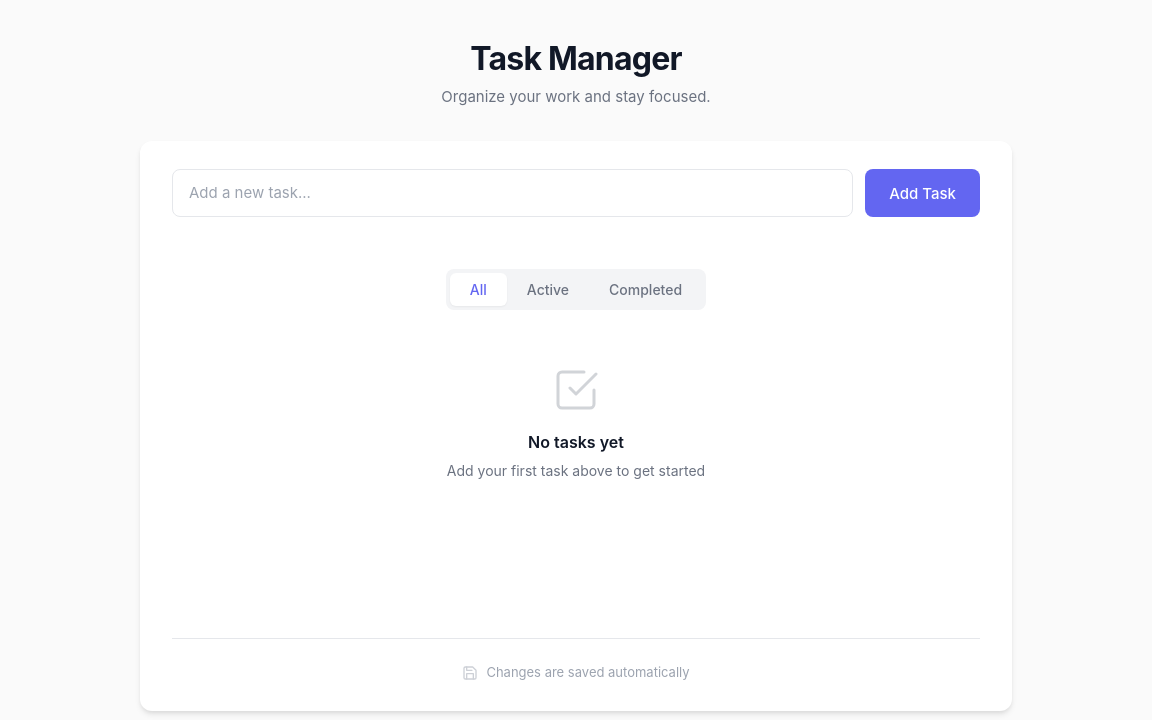
Scenario: App integration tests › filters tasks correctly and shows appropriate empty states
Check: the heading "No tasks yet" is shown, box x1=528 y1=432 x2=624 y2=452
Type "Active task" into the field at (513, 193), box x1=172 y1=169 x2=853 y2=217
Then press Enter
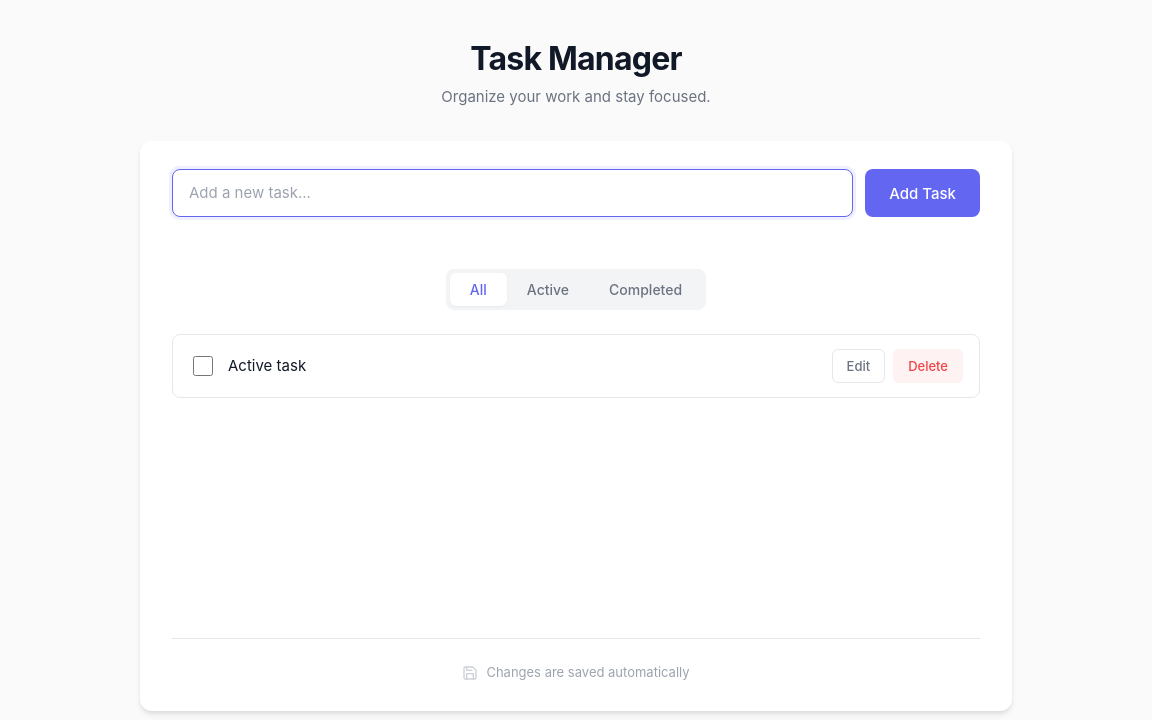
Type "Completed task" into the field at (513, 193), box x1=172 y1=169 x2=853 y2=217
Then press Enter
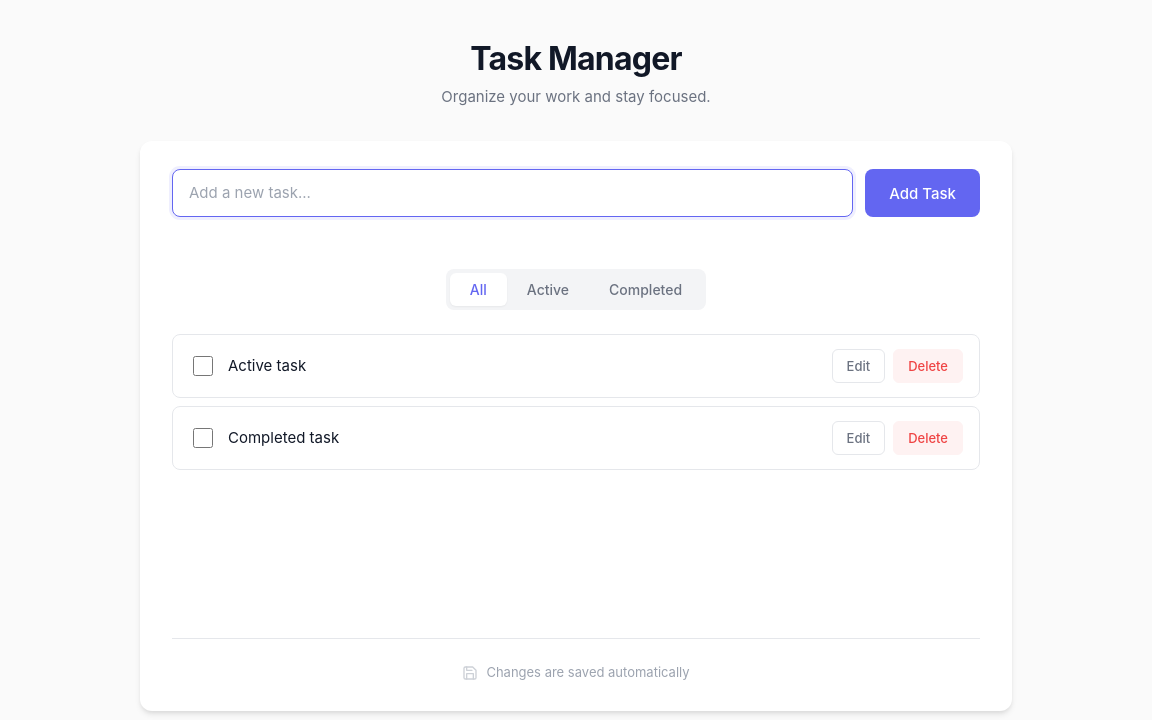
Click the checkbox named "Toggle Completed task" at (203, 438), box x1=193 y1=428 x2=213 y2=448
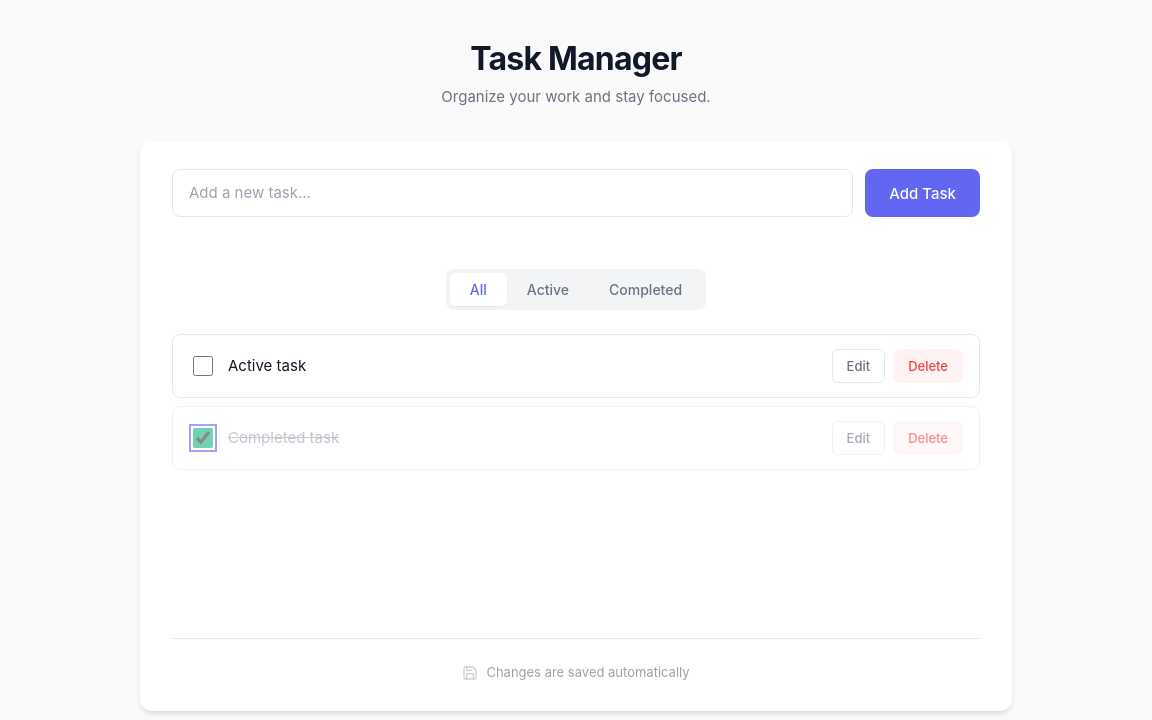
Click the button "Active" at (548, 290), box x1=507 y1=273 x2=589 y2=306
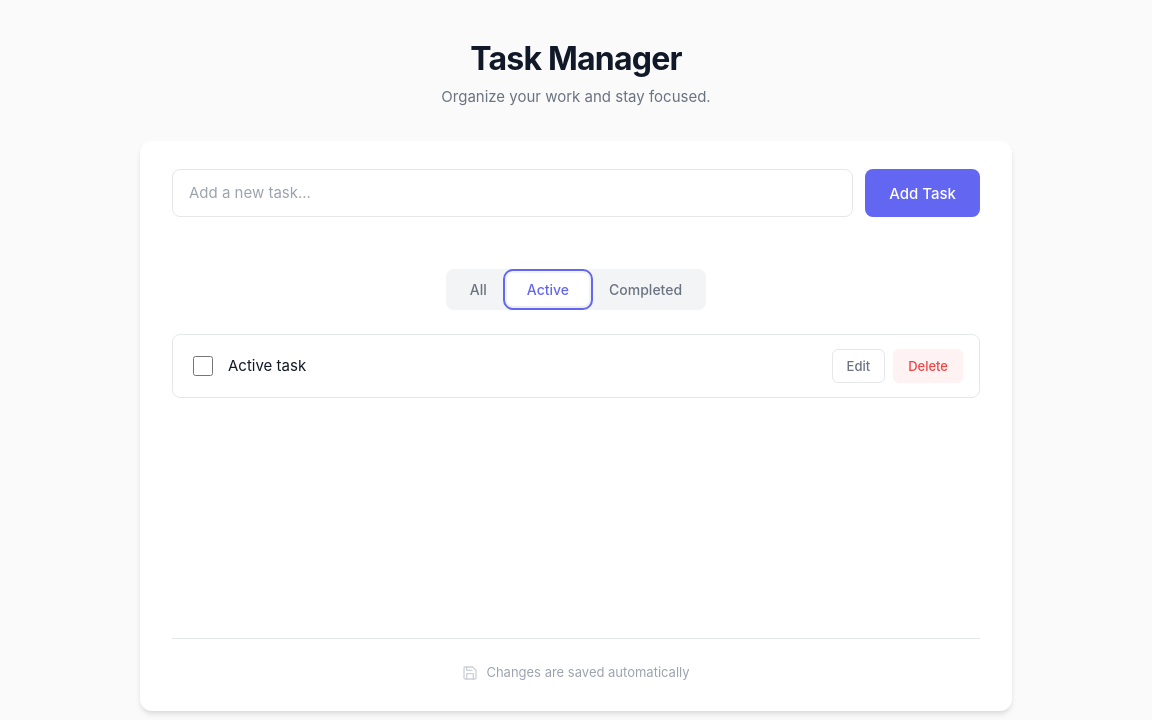
Check: the text "Active task" is shown, box x1=228 y1=356 x2=306 y2=375
Check: the text "Completed task" is gone
Click the button "Completed" at (646, 290), box x1=589 y1=273 x2=702 y2=306
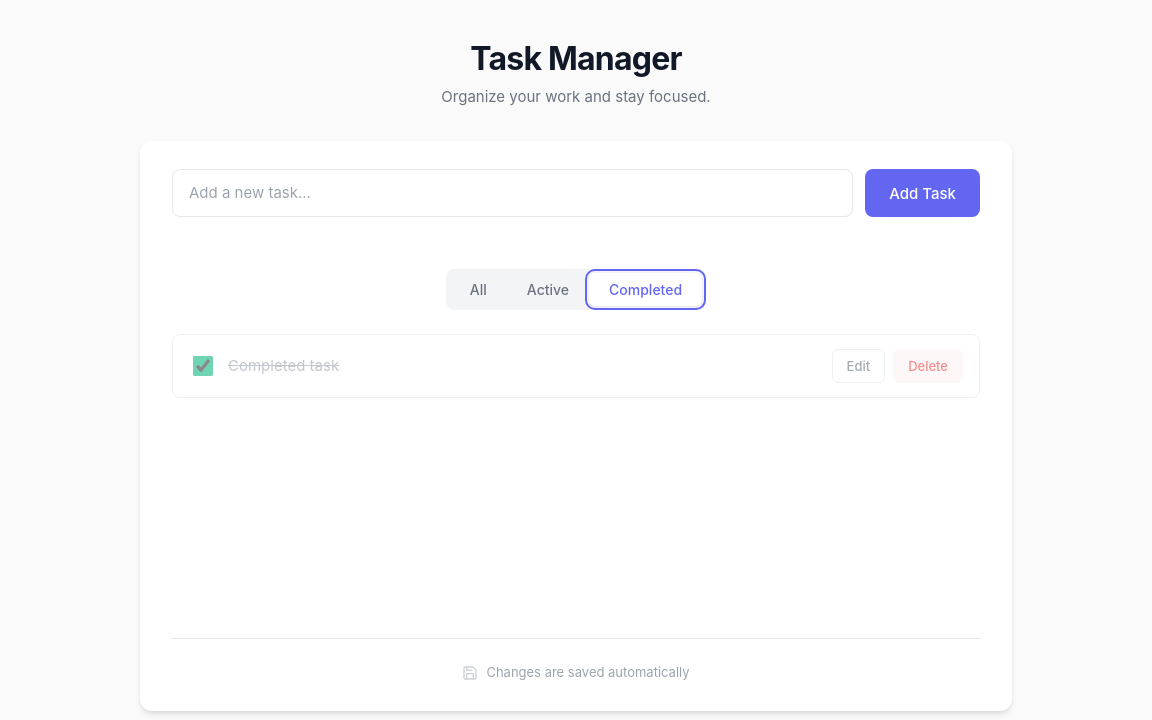
Check: the text "Active task" is gone
Check: the text "Completed task" is shown, box x1=228 y1=356 x2=339 y2=375
Click the button "All" at (478, 290), box x1=450 y1=273 x2=507 y2=306
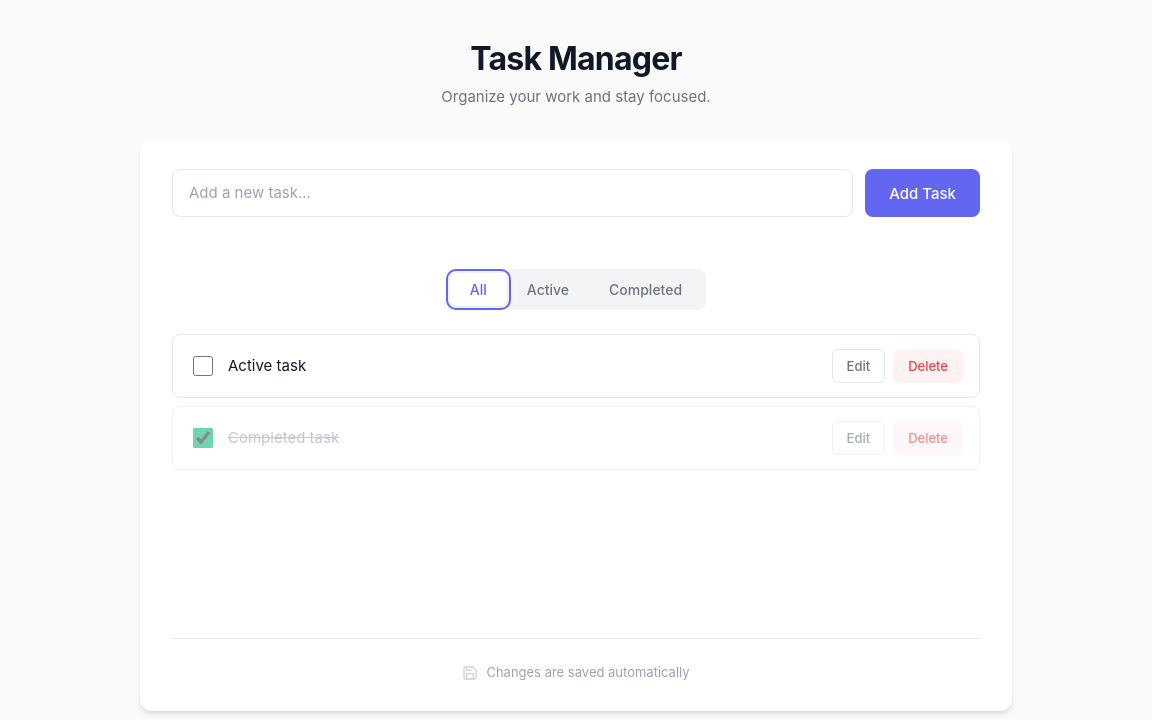
Check: the text "Completed task" is shown, box x1=228 y1=428 x2=339 y2=447
Check: the text "Active task" is shown, box x1=228 y1=356 x2=306 y2=375
